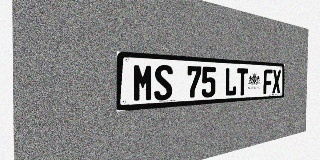5: (202, 66, 216, 98)
7: (186, 66, 202, 99)
F: (263, 69, 272, 94)
L: (225, 67, 237, 96)
M: (133, 63, 154, 102)
S: (154, 64, 173, 101)
T: (237, 68, 248, 96)
X: (272, 70, 281, 93)
